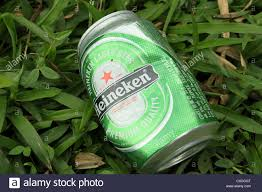can: (78, 9, 219, 174)
